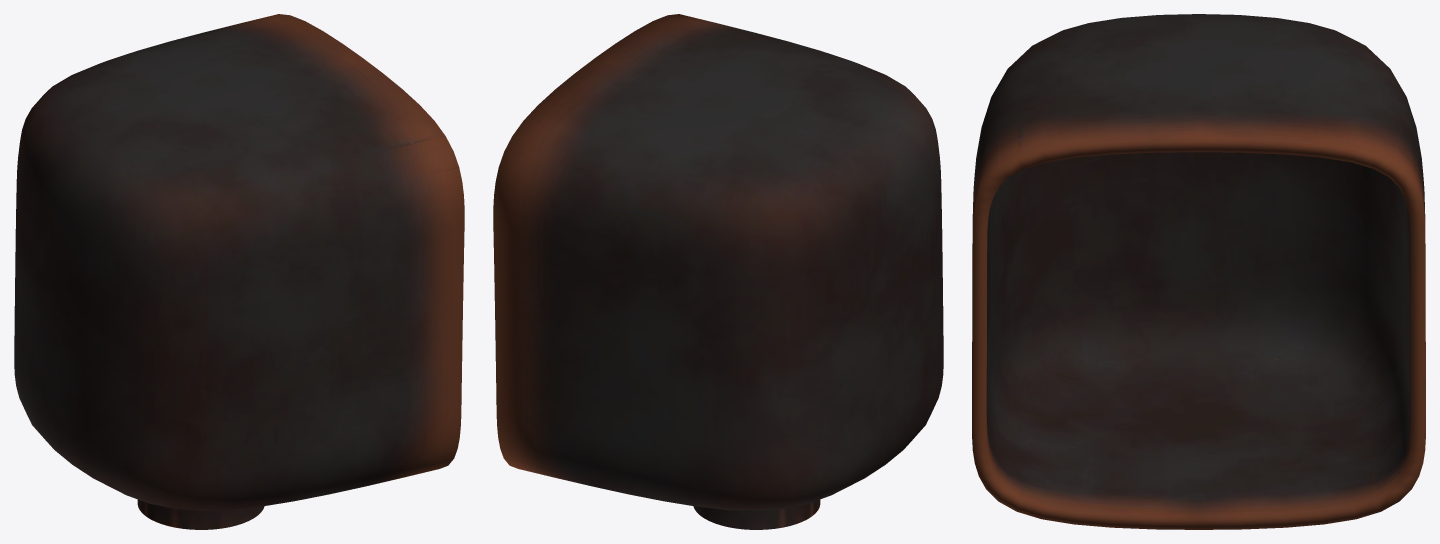
The model's file is scoop_random-0.glb.
3 renders of one model, left to right at view 1: azimuth 30°, elevation 25°; view 2: azimuth 150°, elevation 25°; view 3: azimuth 270°, elevation 25°, orthographic. The views are drawn at different scales.
Parts seen in each view (by area): view 1: scoop_random; view 2: scoop_random; view 3: scoop_random.
Part boxes in pixels (x1=…): scoop_random: x1=14, y1=14, x2=464, y2=529; scoop_random: x1=493, y1=14, x2=943, y2=529; scoop_random: x1=972, y1=14, x2=1425, y2=529.
Size of the model in its own units: 0.1391 by 0.1754 by 0.1642.
1 material, 1 textured.
